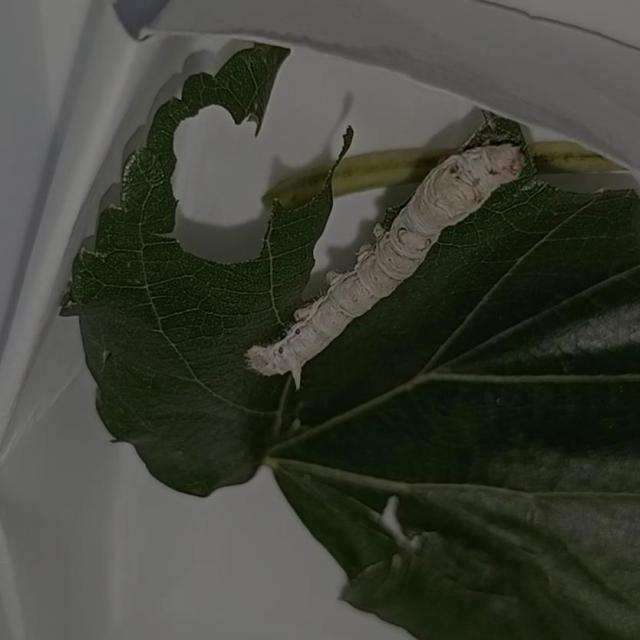Healthy: (223, 86, 559, 410)
